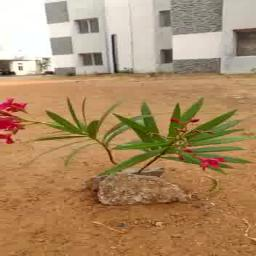OLEANDER: (0, 95, 255, 182)
